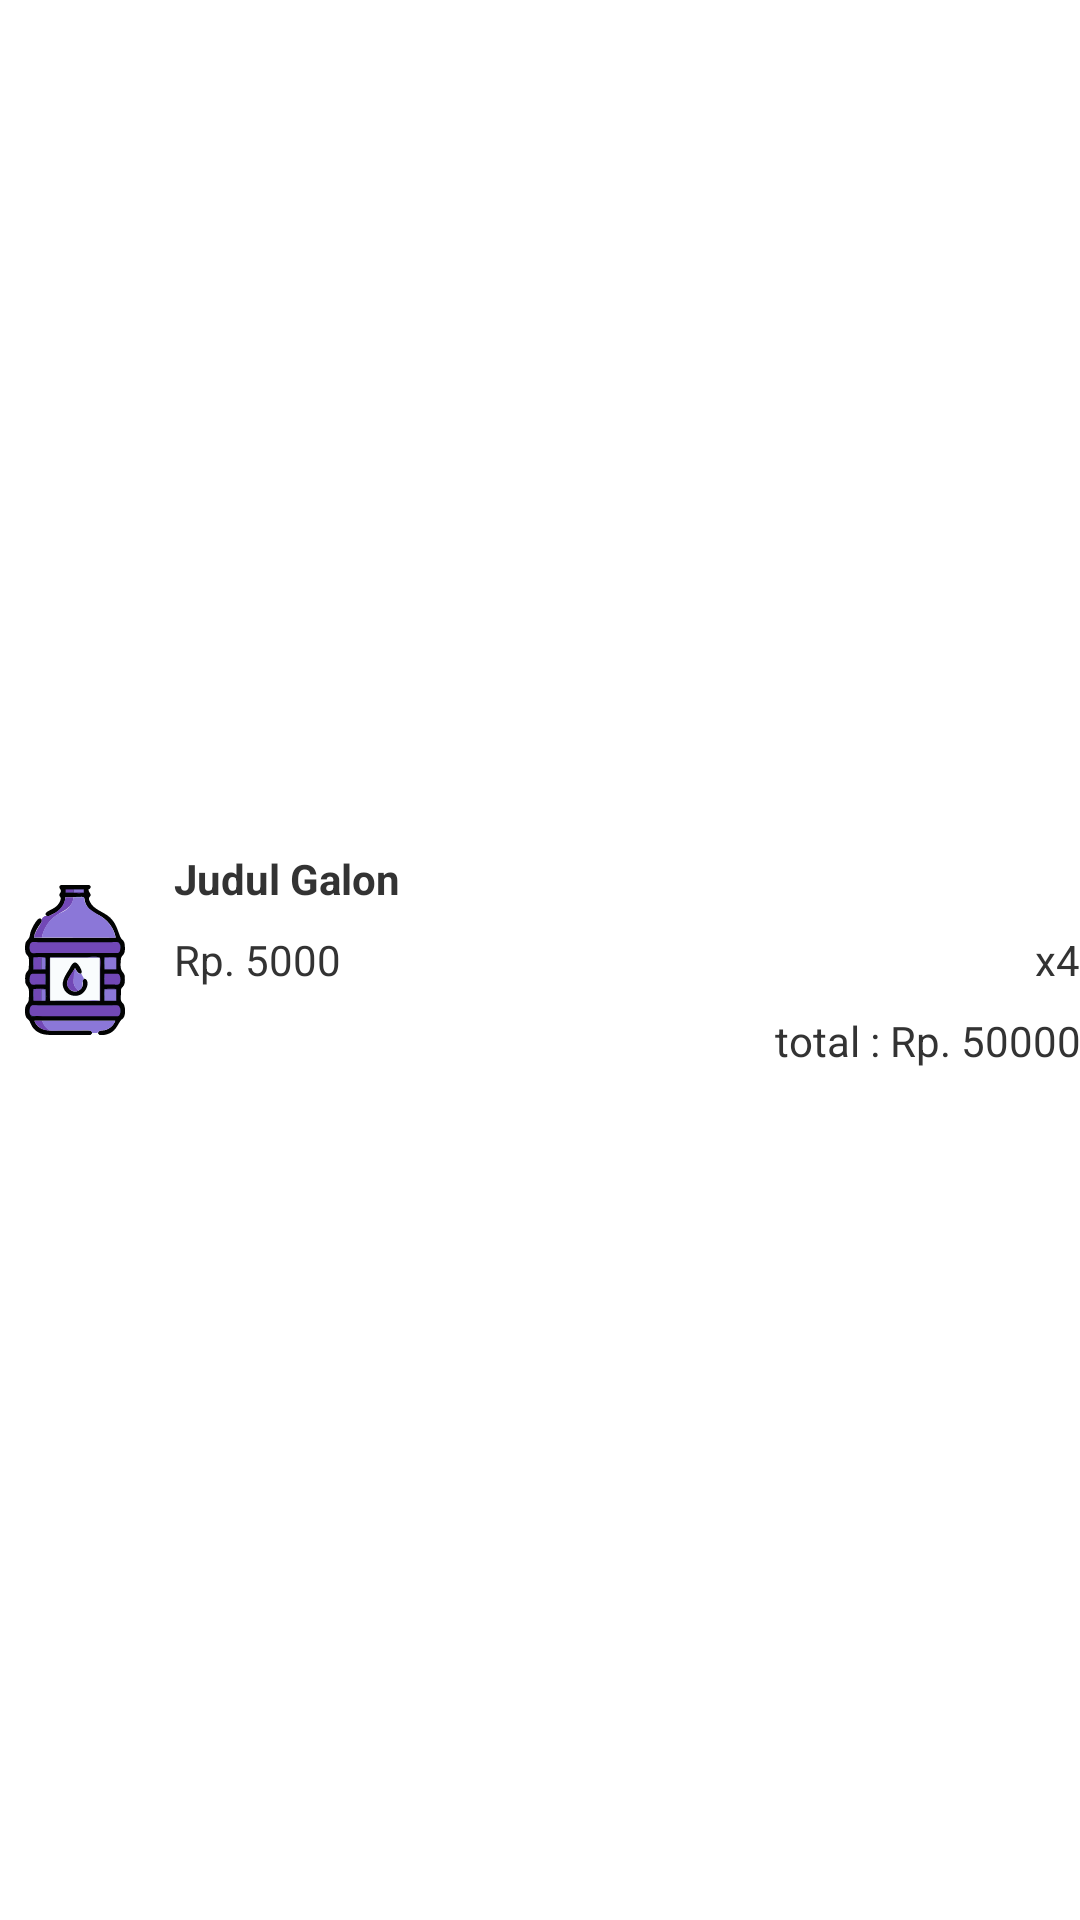

Icons on this 1080x1920 Android screen, each with the point to tap as (x,y):
water: (75,960)
